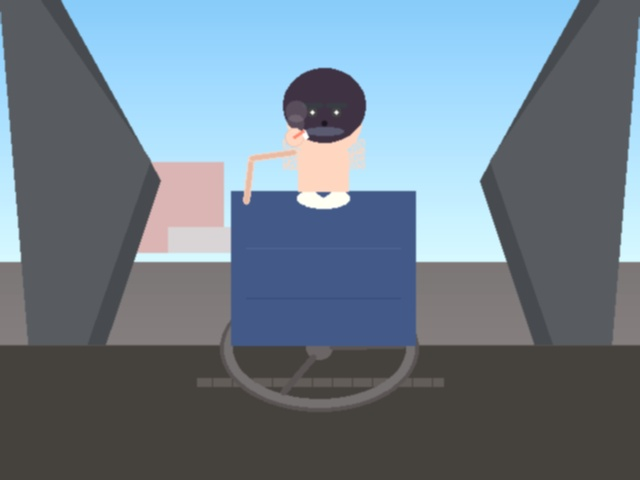smoking: (284, 122, 316, 152)
